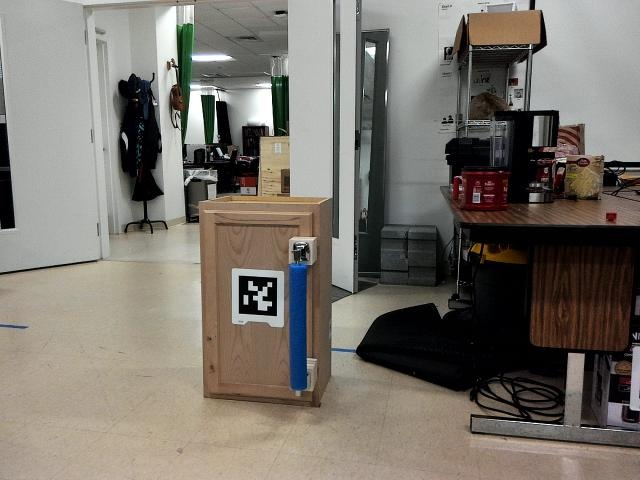noodle_handle: (285, 245, 312, 392)
